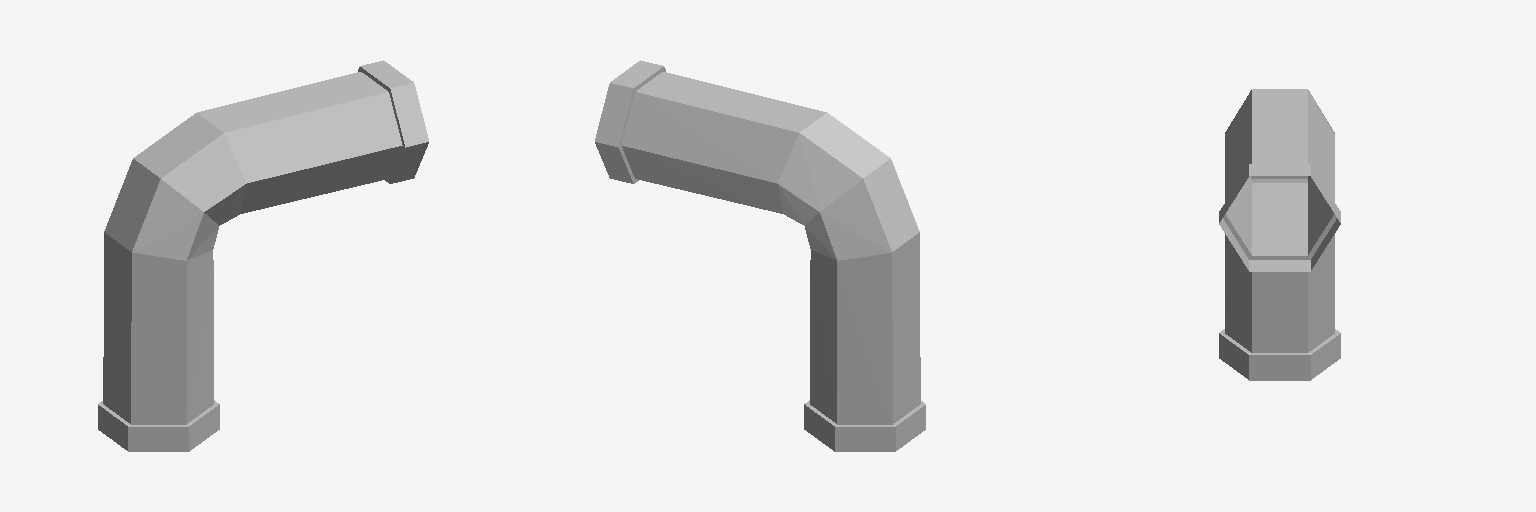
File: LPipe.obj
The picture shows the model from 3 angles: view 1: azimuth 30°, elevation 25°; view 2: azimuth 150°, elevation 25°; view 3: azimuth 270°, elevation 25°; orthographic projection.
Parts seen in each view (by area): view 1: Plane.001_Mesh.004; view 2: Plane.001_Mesh.004; view 3: Plane.001_Mesh.004.
Boxes of the visible parts, box(x1,y1,x2,y2) form: Plane.001_Mesh.004: box(98, 60, 428, 451); Plane.001_Mesh.004: box(595, 60, 925, 451); Plane.001_Mesh.004: box(1219, 89, 1340, 380).
Size of the model in its own units: 1.19 by 1.19 by 0.44.